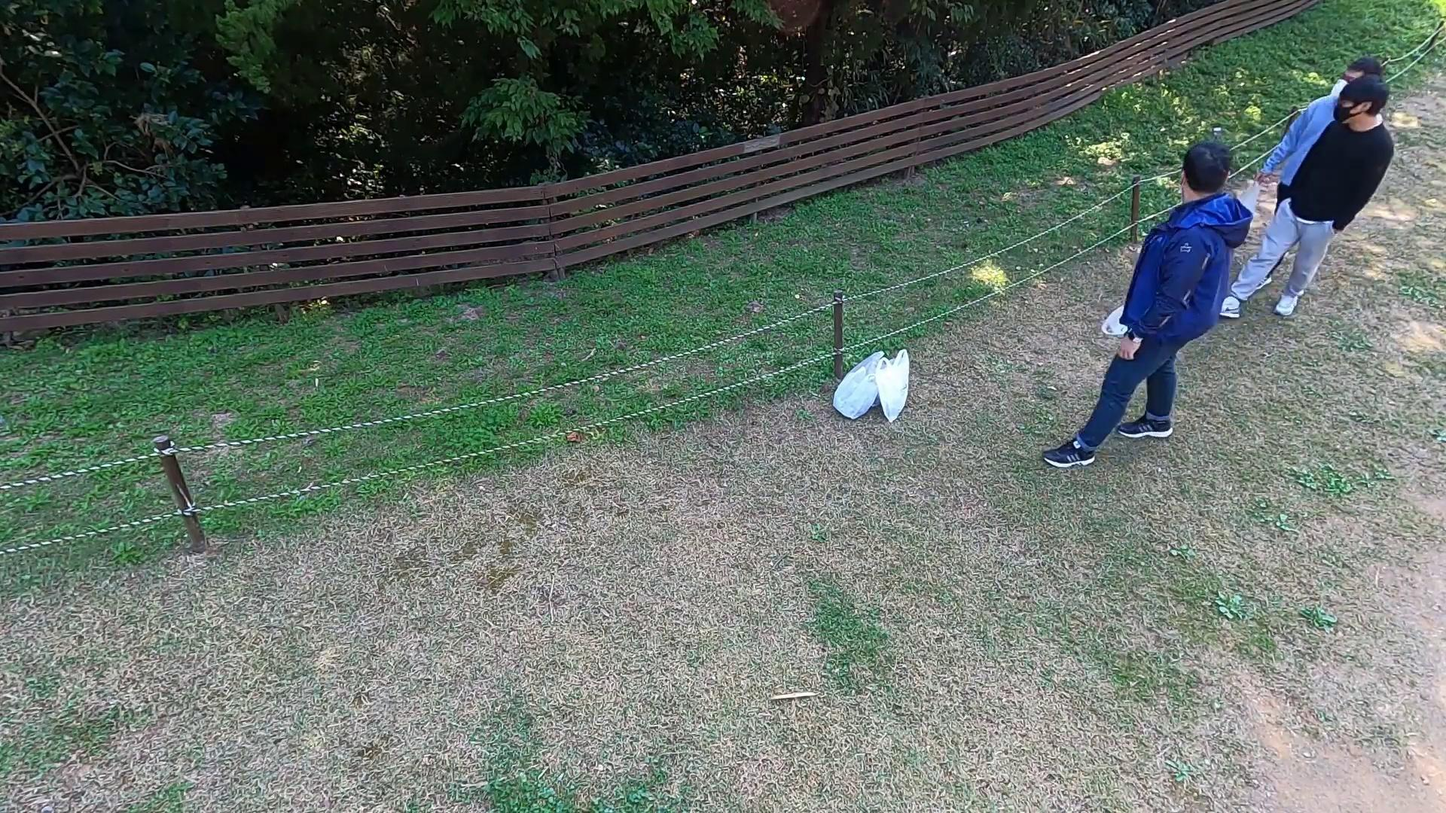person: (1038, 132, 1254, 474), (1220, 71, 1400, 324), (1261, 54, 1385, 215)
trash: (871, 347, 924, 428), (831, 346, 879, 423), (1097, 287, 1142, 345), (1233, 180, 1267, 226)
